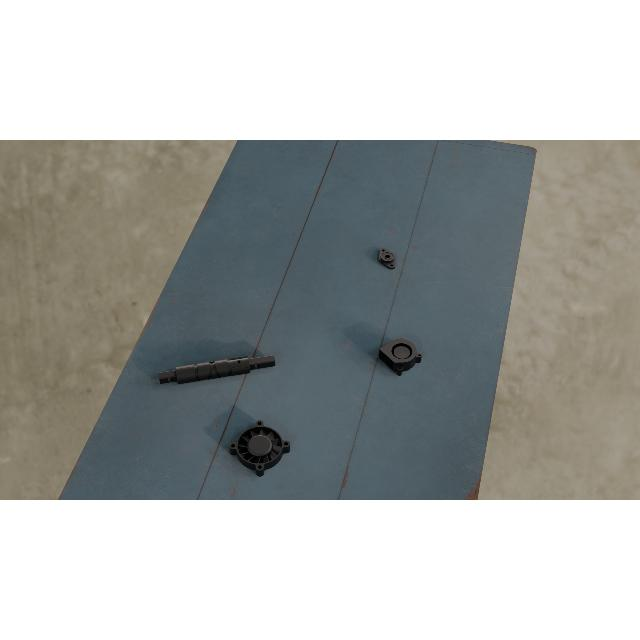Pieza1: (158, 349, 276, 391)
Pieza2: (374, 245, 402, 271)
Pieza3: (378, 333, 424, 377)
Pieza4: (227, 418, 293, 479)
